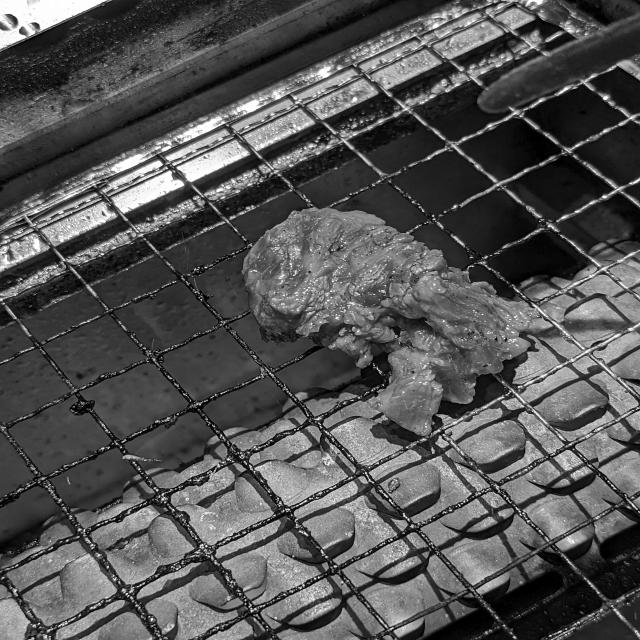NG undercooked beef,: (227, 199, 557, 450)
